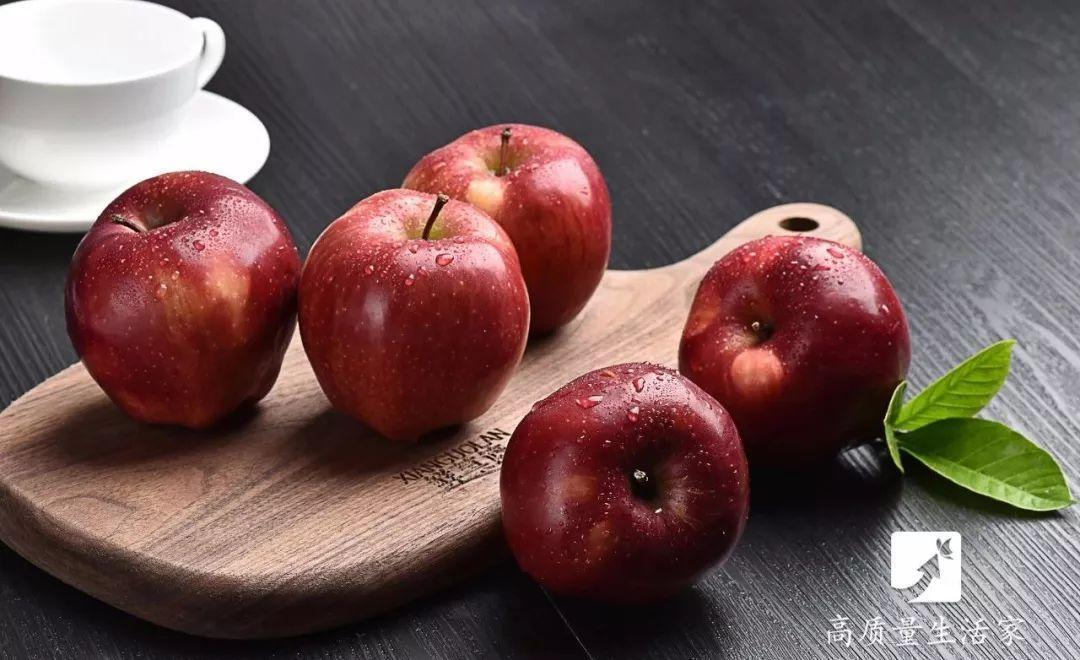apple: (67, 173, 301, 438), (496, 364, 748, 604), (302, 190, 532, 444), (676, 230, 913, 463), (402, 121, 615, 343)
